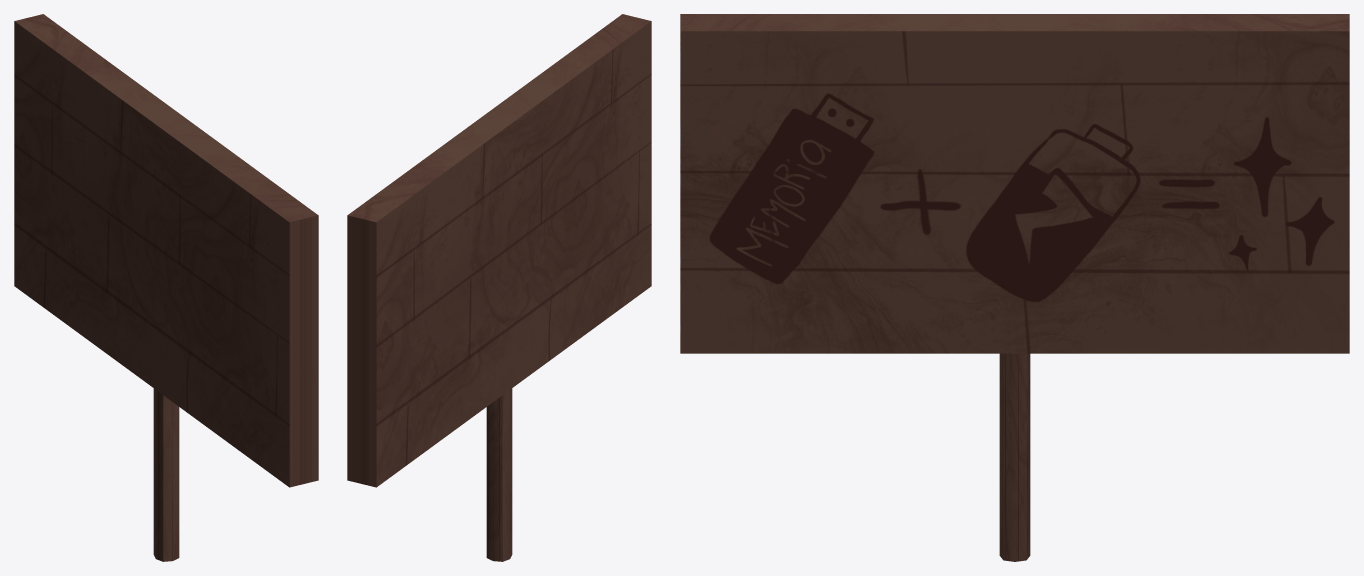
File: Cartel_Bruja.fbx
The picture shows the model from 3 angles, left to right: view 1: azimuth 30°, elevation 25°; view 2: azimuth 150°, elevation 25°; view 3: azimuth 270°, elevation 25°; orthographic projection. The views are drawn at different scales.
Visible parts, largest first — view 1: pCube1; view 2: pCube1; view 3: pCube1.
Boxes of the visible parts, left/top/right/bottom form: pCube1: left=14, top=14, right=318, bottom=561; pCube1: left=347, top=14, right=651, bottom=561; pCube1: left=680, top=14, right=1349, bottom=561.
Bounding box in the file's own units: 0.5143 × 7.42 × 8.44.
